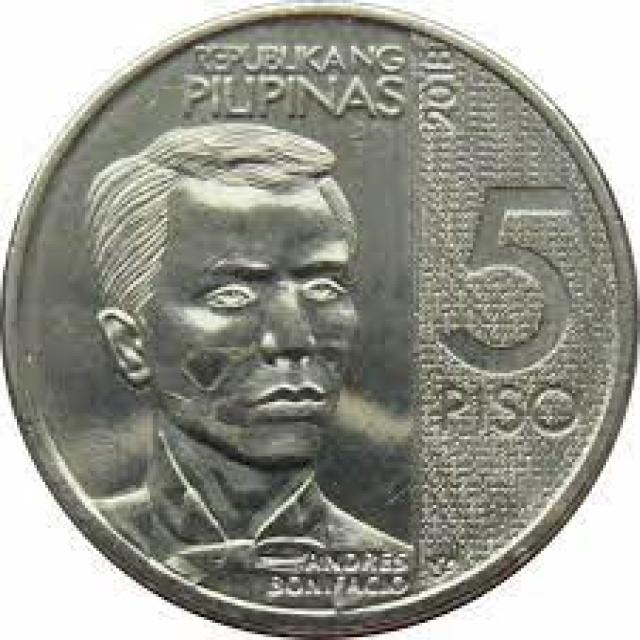5 peso: (10, 12, 640, 638)
